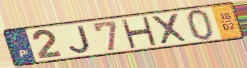0: (185, 9, 216, 42)
2: (32, 28, 65, 60)
7: (90, 20, 119, 52)
H: (119, 16, 158, 49)
J: (67, 24, 93, 55)
X: (149, 12, 191, 46)
